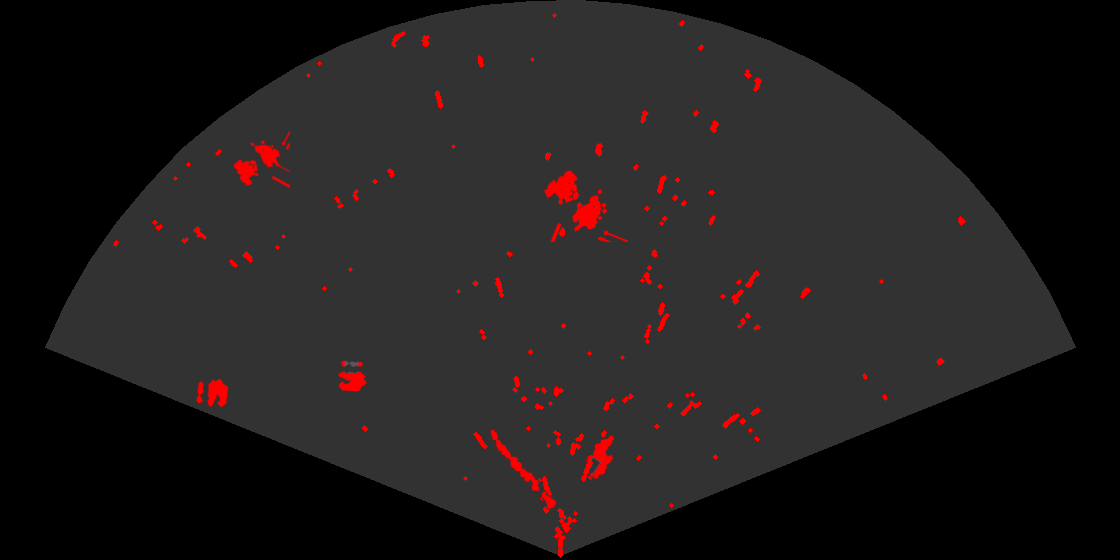AUV: (586, 434, 616, 480)
ball: (195, 377, 230, 409), (336, 359, 368, 393)
cage: (543, 169, 628, 242), (232, 129, 290, 190)
chain: (489, 428, 558, 510)
